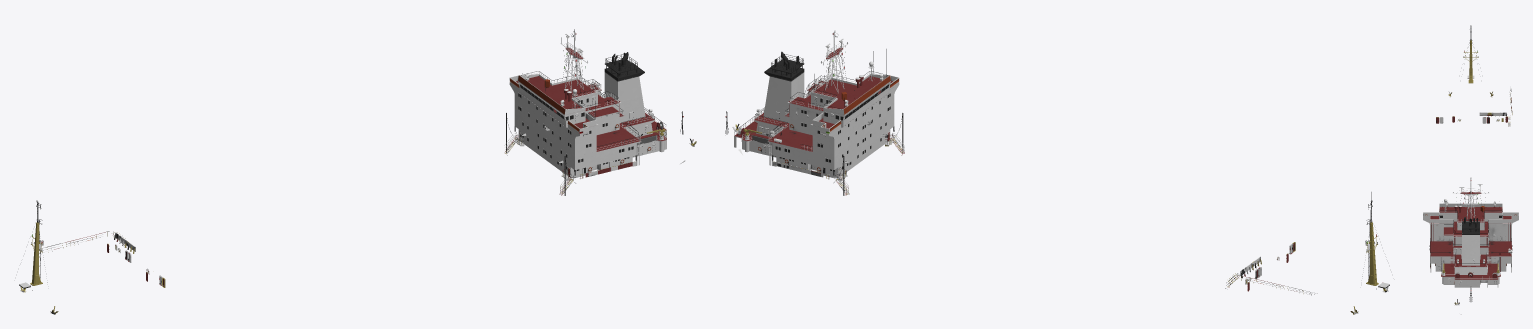
Rendered from Grinding area.fbx.
The picture shows the model from 3 angles, left to right: view 1: azimuth 30°, elevation 25°; view 2: azimuth 150°, elevation 25°; view 3: azimuth 270°, elevation 25°; orthographic projection. The views are drawn at different scales.
Parts seen in each view (by area): view 1: model_8.001; view 2: model_8.001; view 3: model_8.001.
Part boxes in pixels (x1,y1,x2,y2): model_8.001: [19, 29, 696, 314]; model_8.001: [725, 31, 1389, 314]; model_8.001: [1423, 25, 1518, 314].
Bounding box in the file's own units: 13399 × 3284 × 2461.
1 material, 1 textured.
